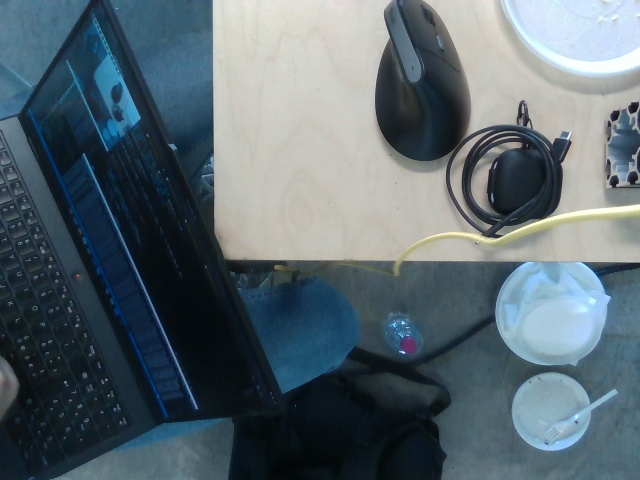cube_hackaton: (494, 146, 566, 217)
